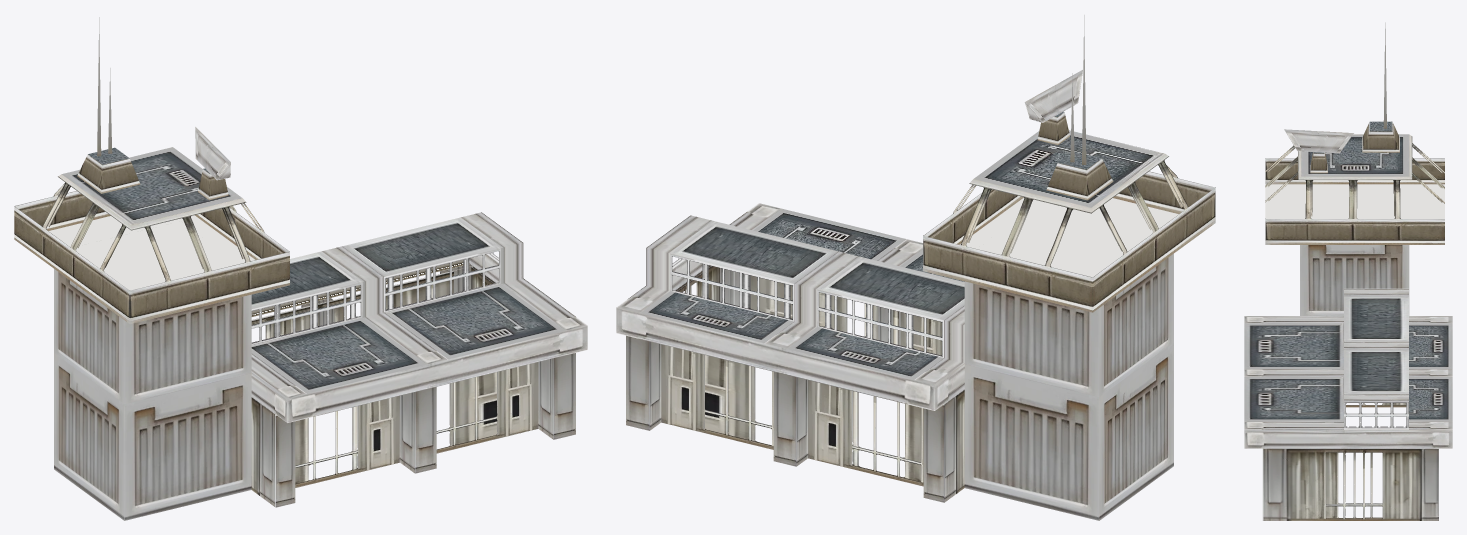
The model's file is s_gatecontrol_hdtex.glb.
3 renders of one model, left to right at view 1: azimuth 30°, elevation 25°; view 2: azimuth 150°, elevation 25°; view 3: azimuth 270°, elevation 25°, orthographic. The views are drawn at different scales.
Parts seen in each view (by area): view 1: S_GateControl, LitWin_SGatecon, Base01; view 2: S_GateControl, LitWin_SGatecon, Base01, Base, LOS_Antennae; view 3: S_GateControl, LitWin_SGatecon, Base01, Base.
Boxes of the visible parts, x1,y1,x2,y2 form: S_GateControl: (14, 147, 587, 520); LitWin_SGatecon: (47, 185, 536, 487); Base01: (195, 127, 230, 180); S_GateControl: (616, 130, 1215, 520); LitWin_SGatecon: (662, 163, 1182, 486); Base01: (1024, 70, 1082, 122); Base: (1037, 111, 1069, 144); LOS_Antennae: (1070, 15, 1086, 164); S_GateControl: (1244, 121, 1452, 520); LitWin_SGatecon: (1268, 145, 1442, 518); Base01: (1284, 129, 1353, 153); Base: (1310, 152, 1327, 173).
Size of the model in its own units: 22.19 by 21.96 by 11.63.
1 material, 1 textured.
